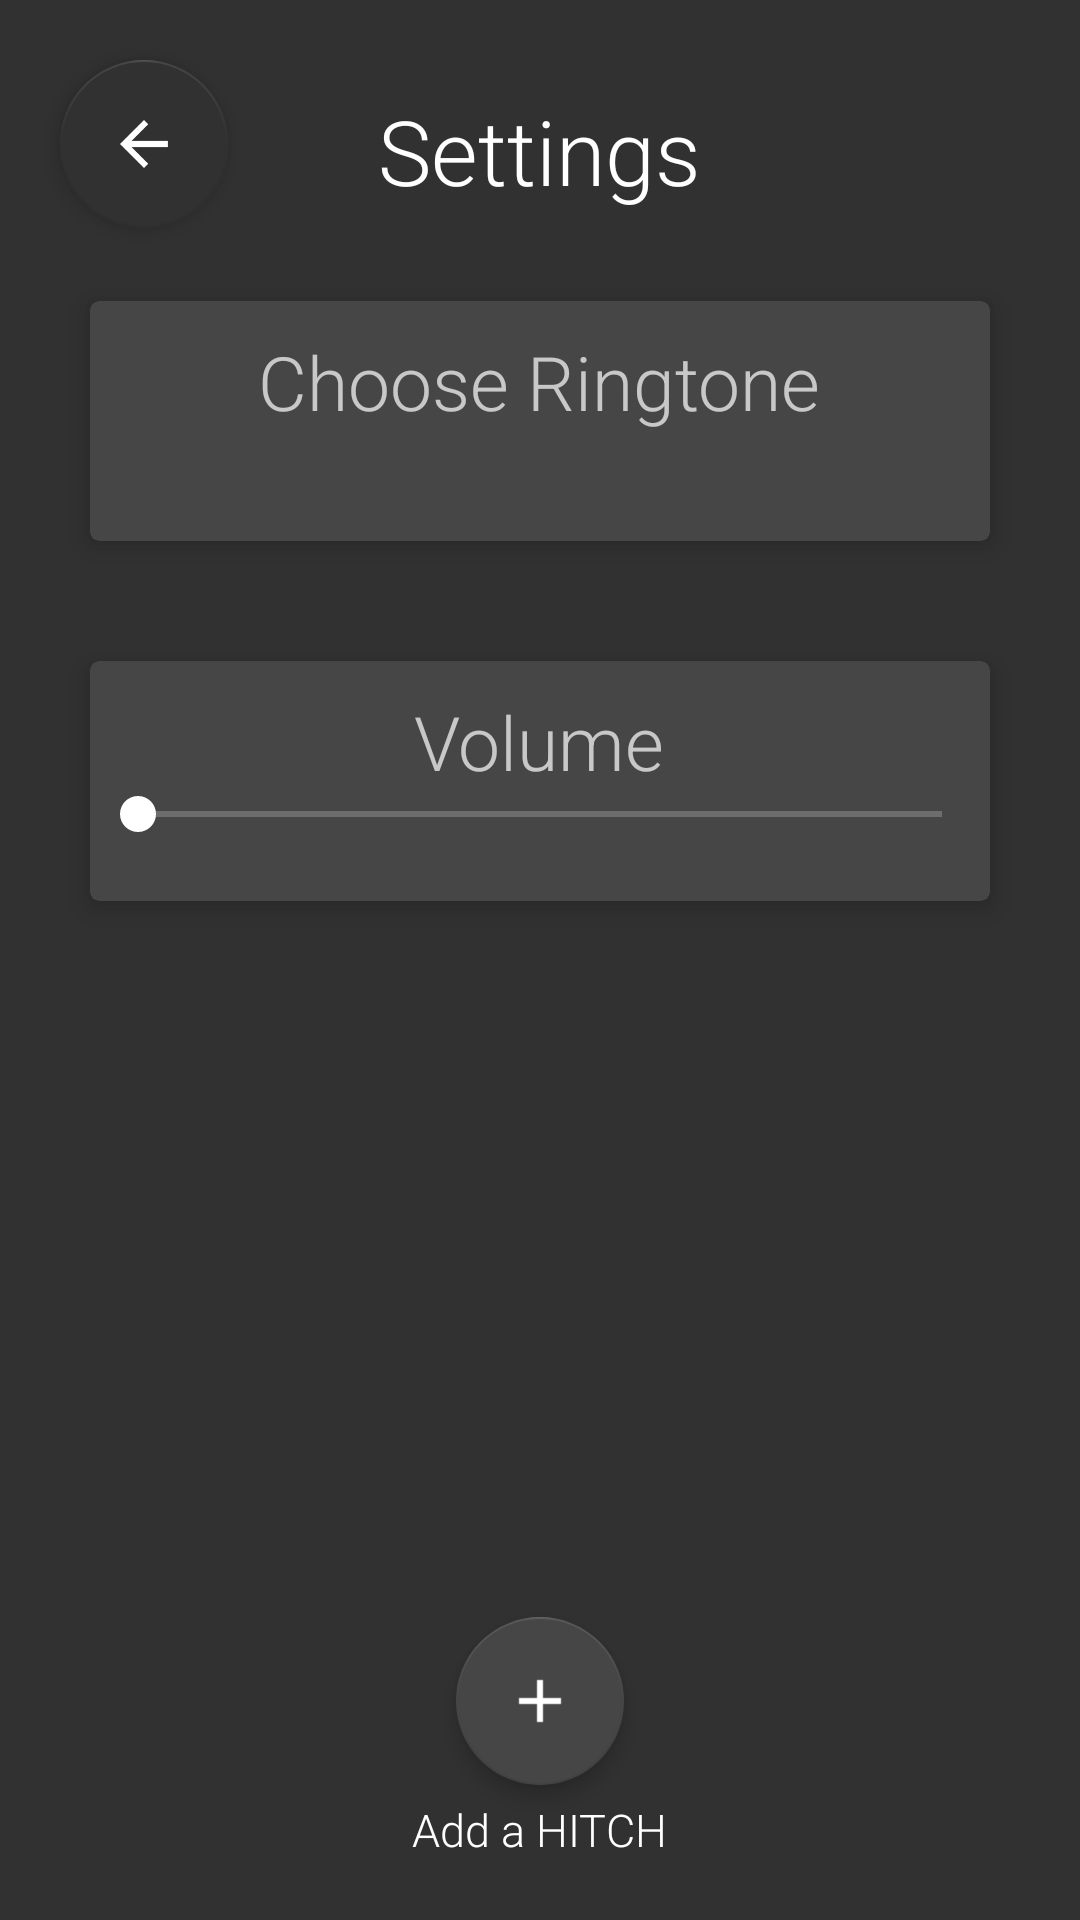

Icons on this 1080x1920 Android screen, each with its box as bbox=(x1, y1, x2, y2):
plus: bbox=(456, 1617, 624, 1785)
